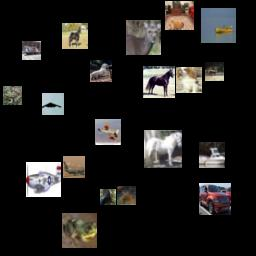airplane: (26, 162, 61, 197), (95, 119, 121, 145), (42, 93, 64, 115), (63, 156, 85, 178)
automobile: (199, 183, 231, 215)
bird: (100, 189, 116, 205)
cat: (165, 1, 194, 30)
deer: (126, 20, 161, 55), (117, 186, 136, 205), (205, 62, 224, 81)
dog: (176, 67, 202, 93)
frog: (62, 213, 97, 248), (3, 86, 22, 105)
ship: (201, 8, 236, 43), (199, 142, 225, 168)
truck: (22, 41, 41, 60)
